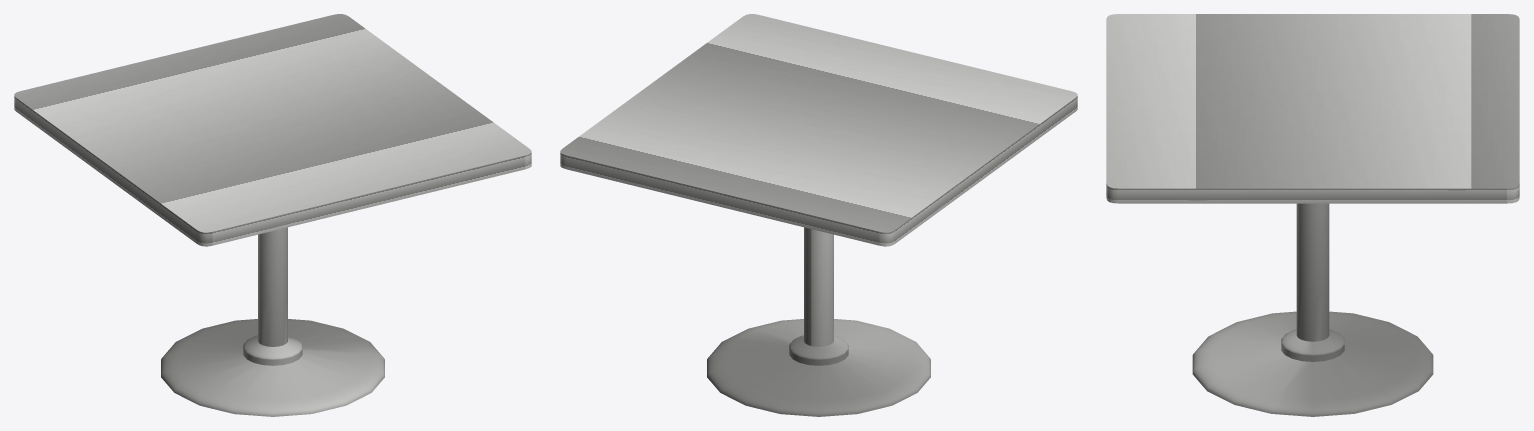
Rendered from Square Table.FBX.
3 renders of one model, left to right at view 1: azimuth 30°, elevation 25°; view 2: azimuth 150°, elevation 25°; view 3: azimuth 270°, elevation 25°, orthographic. The views are drawn at different scales.
Visible parts, largest first — view 1: Box001, Cylinder002; view 2: Box001, Cylinder002; view 3: Box001, Cylinder002.
Boxes of the visible parts, box(x1,y1,x2,y2) form: Box001: box(14, 14, 531, 246); Cylinder002: box(161, 227, 384, 416); Box001: box(560, 14, 1077, 246); Cylinder002: box(707, 227, 930, 416); Box001: box(1106, 14, 1519, 203); Cylinder002: box(1192, 203, 1433, 416).
Bounding box in the file's own units: 50 × 35.26 × 50.
2 materials, 2 textured.
